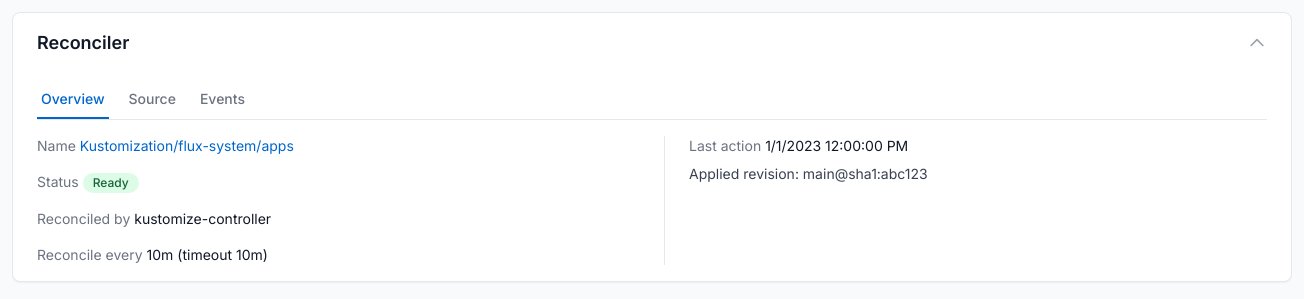
Scenario: WorkloadReconcilerPanel component › Events tab › should display "No events found" when events list is empty
Click the button "Events" at (222, 100), box [196, 81, 249, 119]
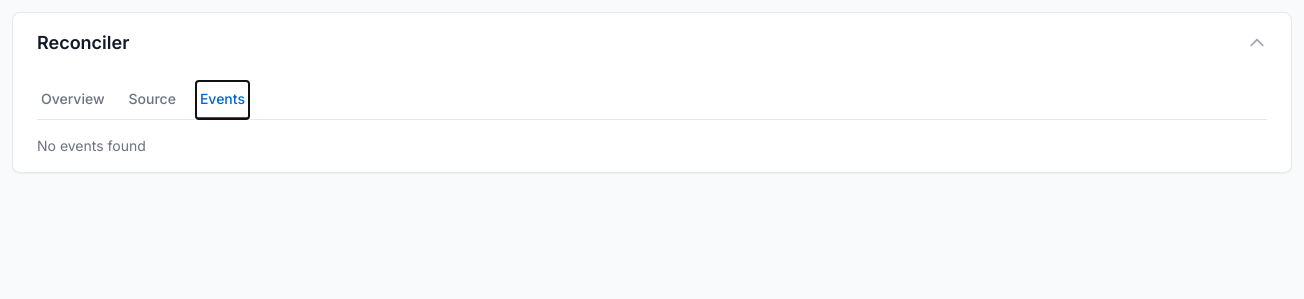
Expected: the text "No events found" is shown, [37, 137, 146, 154]
